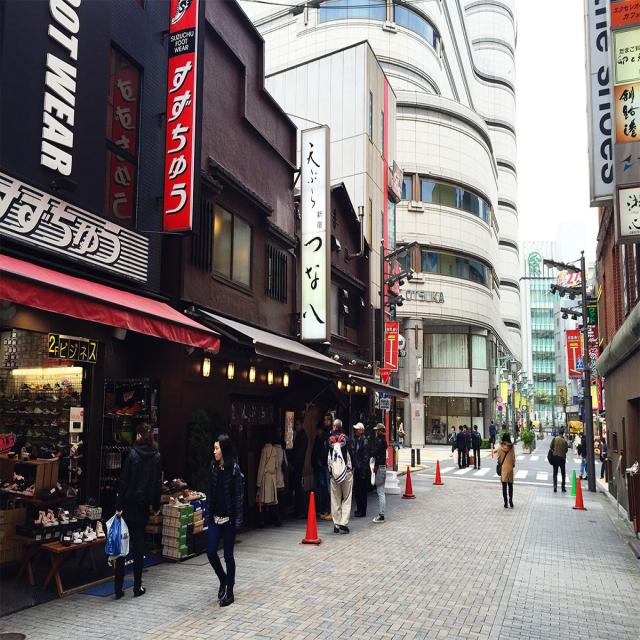body: (105, 422, 163, 598), (203, 432, 244, 608), (326, 417, 353, 534), (254, 427, 279, 529), (287, 414, 309, 520), (370, 422, 388, 523), (318, 412, 334, 520), (272, 431, 289, 528), (353, 422, 369, 518), (310, 420, 326, 515), (546, 426, 568, 493), (496, 432, 515, 508), (74, 438, 91, 477), (576, 431, 588, 481), (471, 424, 482, 470), (456, 424, 466, 468), (462, 423, 471, 468), (599, 437, 607, 480), (448, 425, 458, 457), (396, 421, 407, 449), (430, 416, 442, 439), (488, 420, 498, 445), (391, 419, 399, 449), (574, 429, 581, 456), (275, 425, 285, 441), (559, 415, 567, 430), (592, 434, 598, 454), (500, 418, 508, 432), (537, 422, 544, 436), (518, 420, 523, 435), (515, 421, 519, 439), (544, 416, 550, 427), (528, 418, 533, 431), (533, 411, 539, 421)
